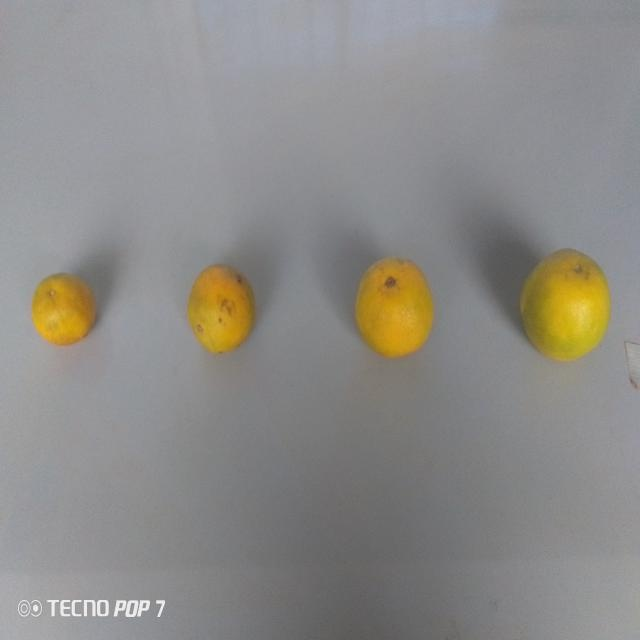agrume: (515, 235, 617, 369), (348, 251, 437, 370), (174, 240, 258, 364), (30, 261, 101, 357)
